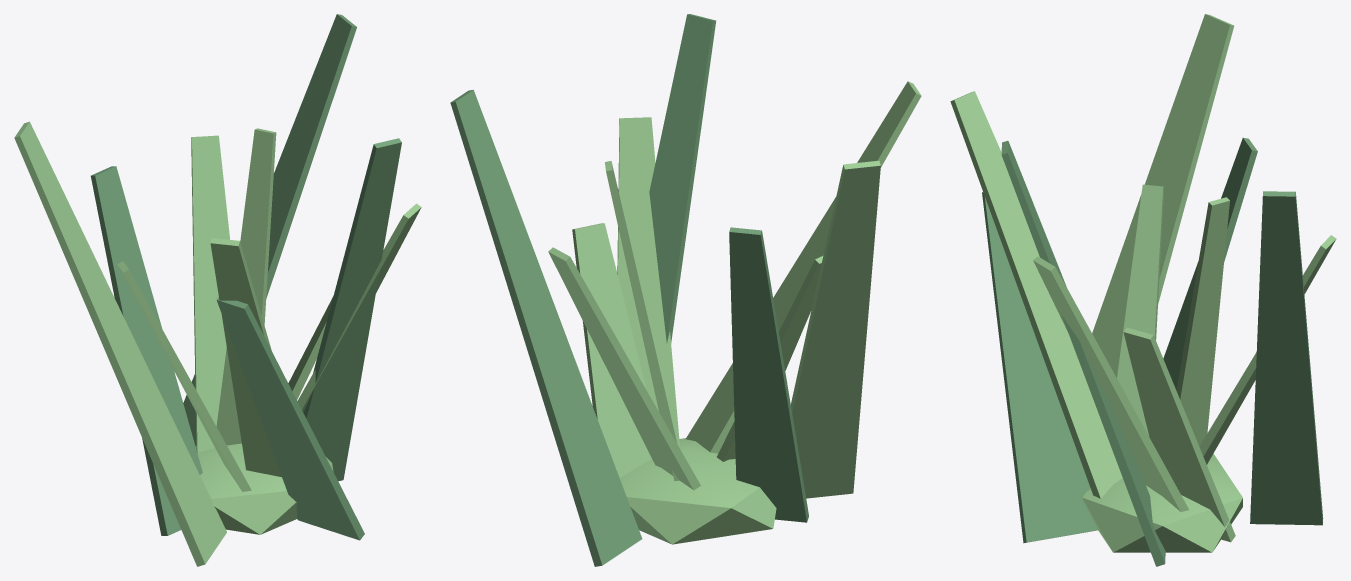
Rendered from hearthvale_grass_clump_tall.glb.
3 views of the same model, side by side, from view 1: azimuth 30°, elevation 25°; view 2: azimuth 150°, elevation 25°; view 3: azimuth 270°, elevation 25° (orthographic). The views are drawn at different scales.
Parts seen in each view (by area): view 1: hearthvale_grass_clump_tall; view 2: hearthvale_grass_clump_tall; view 3: hearthvale_grass_clump_tall.
Part boxes in pixels (x1=…): hearthvale_grass_clump_tall: x1=14, y1=14, x2=421, y2=566; hearthvale_grass_clump_tall: x1=450, y1=14, x2=921, y2=566; hearthvale_grass_clump_tall: x1=950, y1=14, x2=1336, y2=566.
Size of the model in its own units: 0.5509 by 0.5975 by 0.4908.
